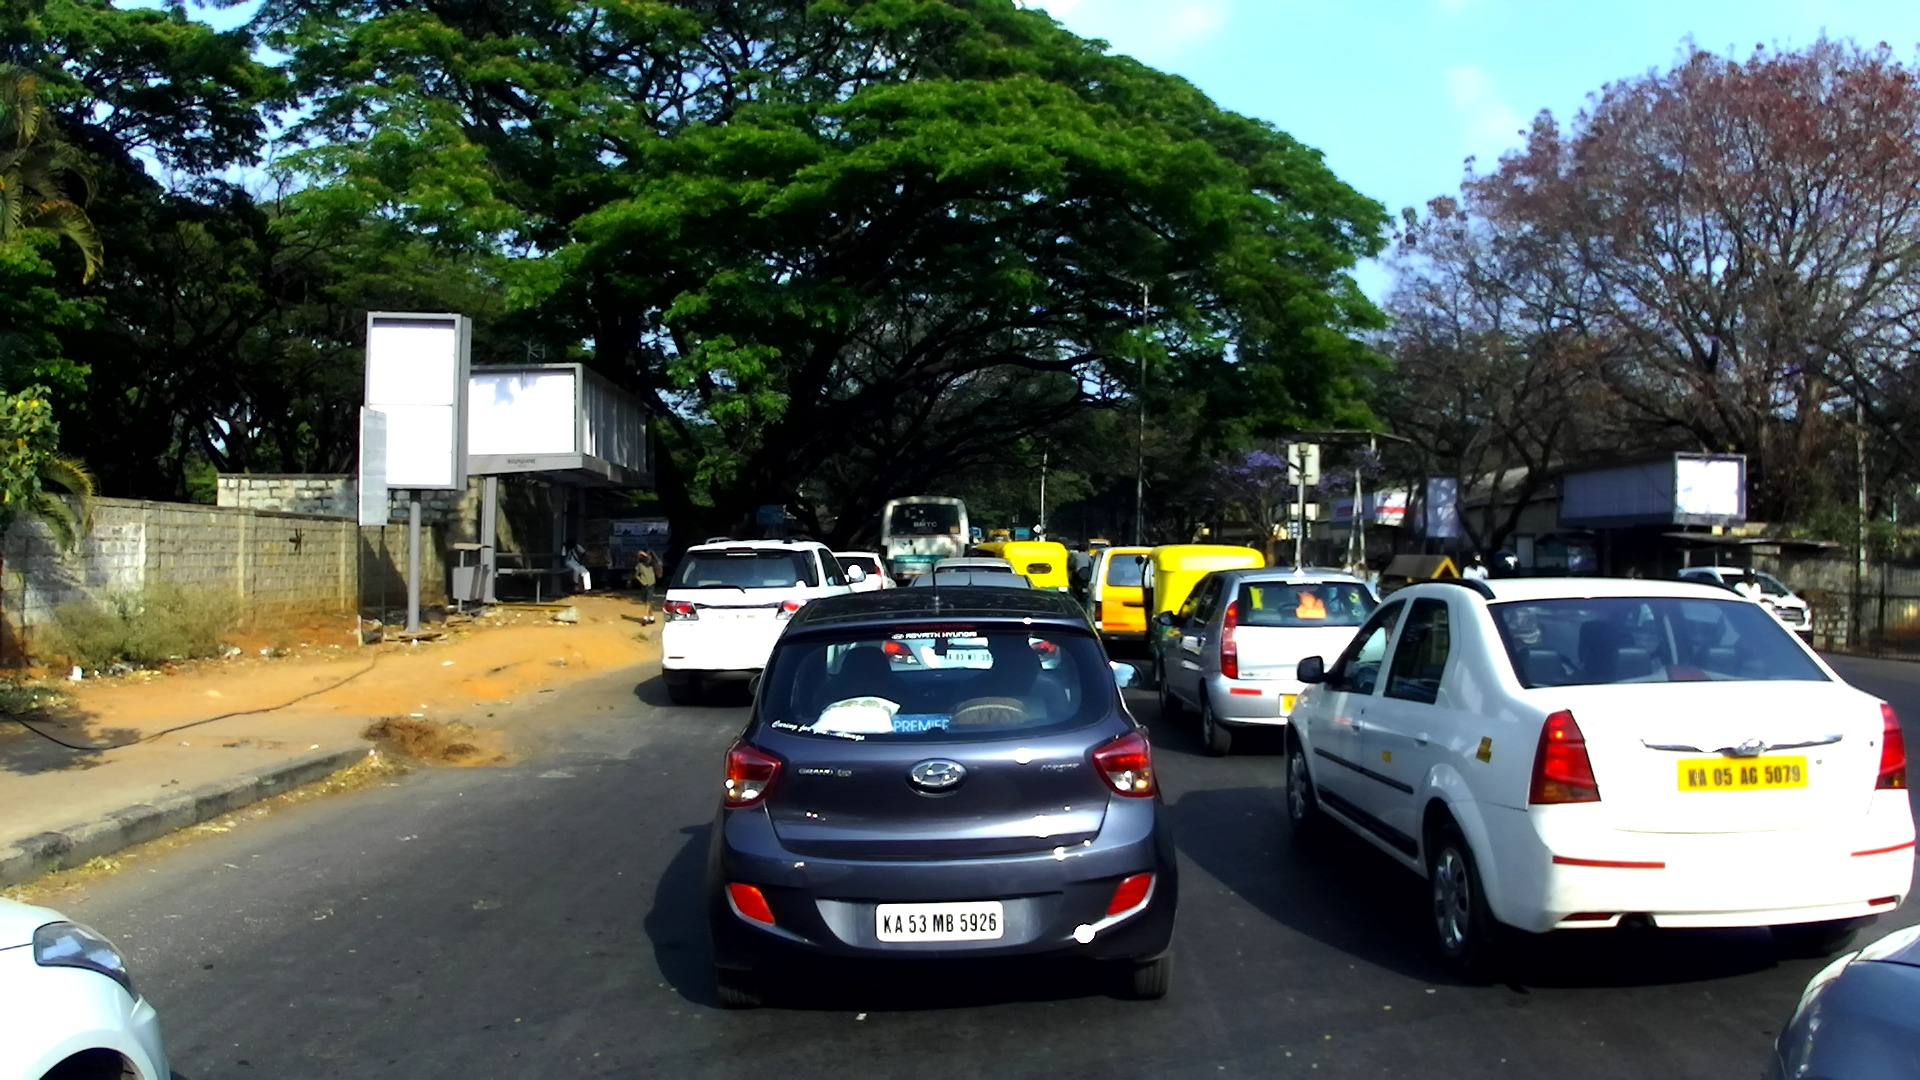autorickshaw: (1131, 544, 1265, 686), (972, 540, 1071, 597)
bus: (883, 495, 970, 581), (988, 529, 1012, 548), (971, 527, 983, 549)
car: (1284, 580, 1915, 970), (706, 586, 1180, 1010), (1156, 566, 1384, 757), (661, 533, 866, 704), (1, 898, 168, 1080), (1767, 923, 1920, 1080), (1678, 566, 1812, 653), (1082, 546, 1155, 656), (831, 551, 896, 594), (908, 573, 1034, 592), (932, 557, 1015, 577)
motorcycle: (1072, 566, 1092, 601), (1757, 600, 1781, 625)
person: (634, 548, 664, 625), (561, 540, 593, 594), (1627, 558, 1643, 578)
rider: (1067, 543, 1094, 591), (1734, 567, 1763, 603), (1463, 550, 1489, 583), (1487, 551, 1521, 578), (1069, 546, 1082, 570), (1273, 554, 1289, 567)
truck: (1088, 538, 1111, 560)
vehicle fallback: (1061, 540, 1081, 555)
